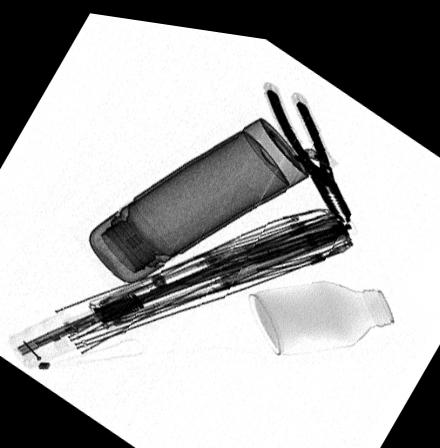Pliers: (265, 78, 354, 213)
